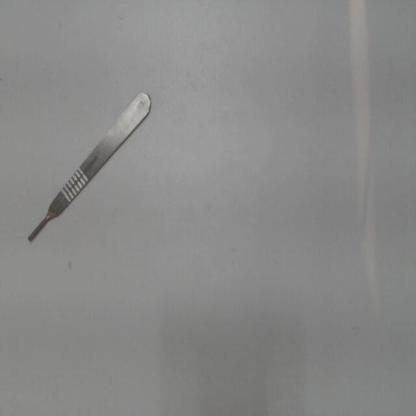No.3 BP Handle: (20, 84, 161, 249)
